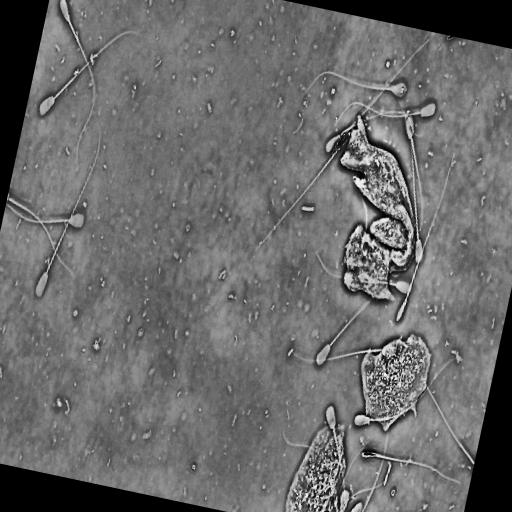dirt-particles: (338, 110, 419, 302), (350, 327, 434, 435), (281, 399, 347, 512)
loose-tail: (7, 195, 75, 280), (419, 373, 476, 469)
normal: (33, 130, 102, 302), (394, 146, 456, 323), (36, 29, 134, 118), (353, 356, 457, 426), (57, 0, 97, 169), (313, 292, 375, 369), (359, 447, 463, 487), (296, 67, 408, 101), (330, 96, 440, 130), (400, 110, 426, 237), (5, 201, 87, 234), (325, 405, 345, 512)
